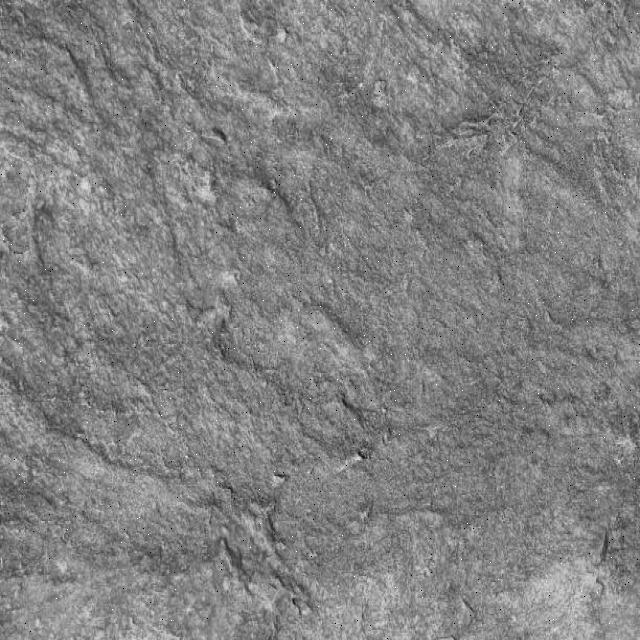Metamorphic: (1, 1, 638, 638)
